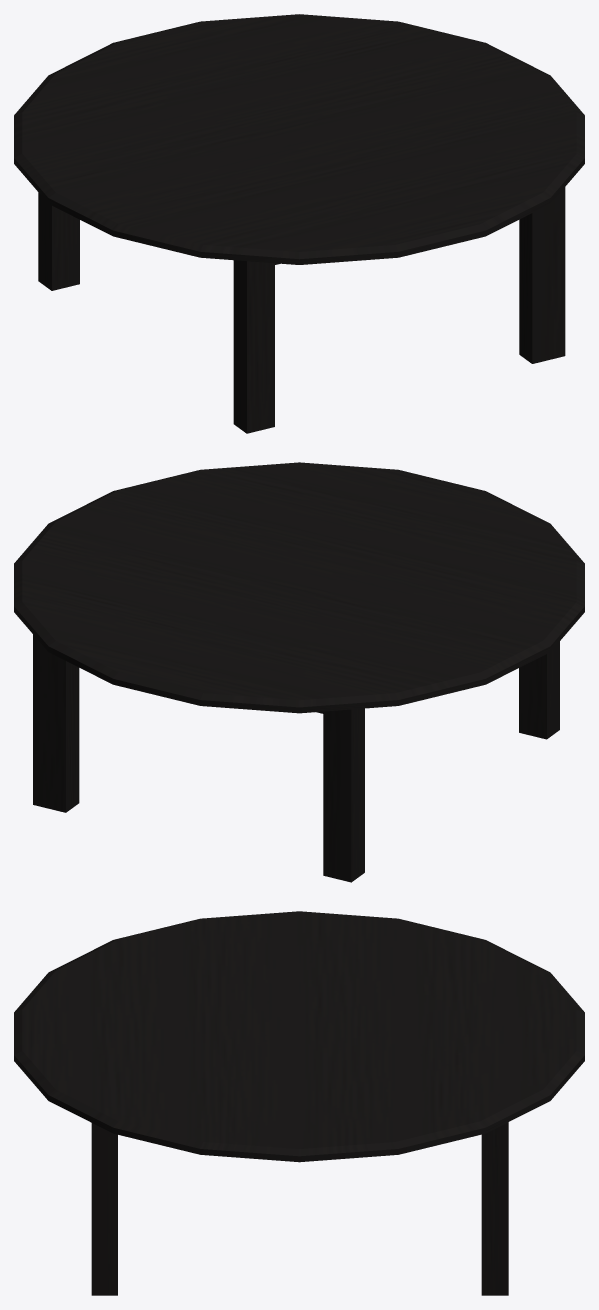
Rendered from Round Table_A_2.FBX.
3 views of the same model, one above another, from view 1: azimuth 30°, elevation 25°; view 2: azimuth 150°, elevation 25°; view 3: azimuth 270°, elevation 25° (orthographic).
Parts seen in each view (by area): view 1: Round Dining table; view 2: Round Dining table; view 3: Round Dining table.
Part boxes in pixels (left/top/right/bottom): Round Dining table: left=14, top=14, right=584, bottom=433; Round Dining table: left=14, top=462, right=584, bottom=882; Round Dining table: left=14, top=911, right=584, bottom=1295.
Bounding box in the file's own units: 360 × 128 × 355.
